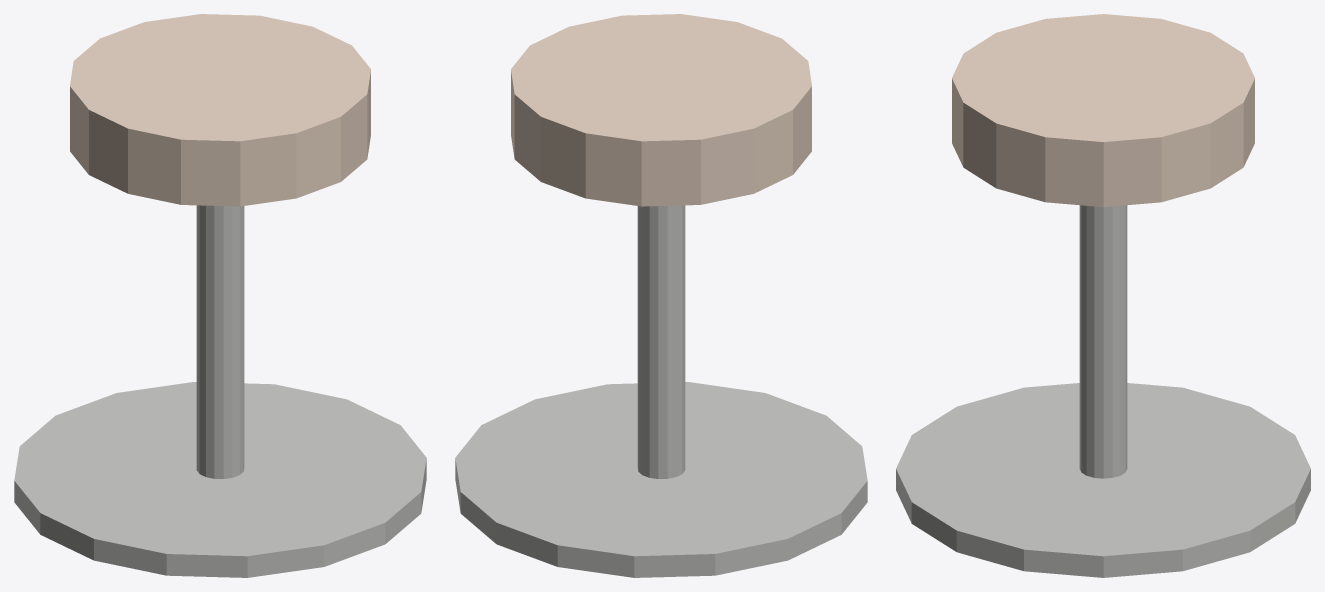
File: mocho.obj
3 renders of one model, left to right at view 1: azimuth 30°, elevation 25°; view 2: azimuth 150°, elevation 25°; view 3: azimuth 270°, elevation 25°, orthographic.
Visible parts, largest first — view 1: mocho; view 2: mocho; view 3: mocho.
Boxes of the visible parts, x1,y1,x2,y2 form: mocho: [14, 14, 426, 577]; mocho: [455, 14, 867, 577]; mocho: [896, 14, 1310, 577].
Size of the model in its own units: 0.52 by 0.57 by 0.52.
